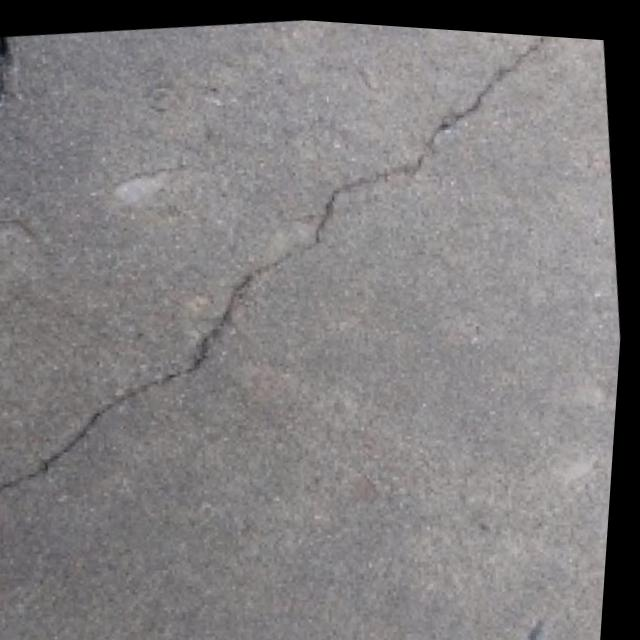Crack: (0, 0, 640, 551)
